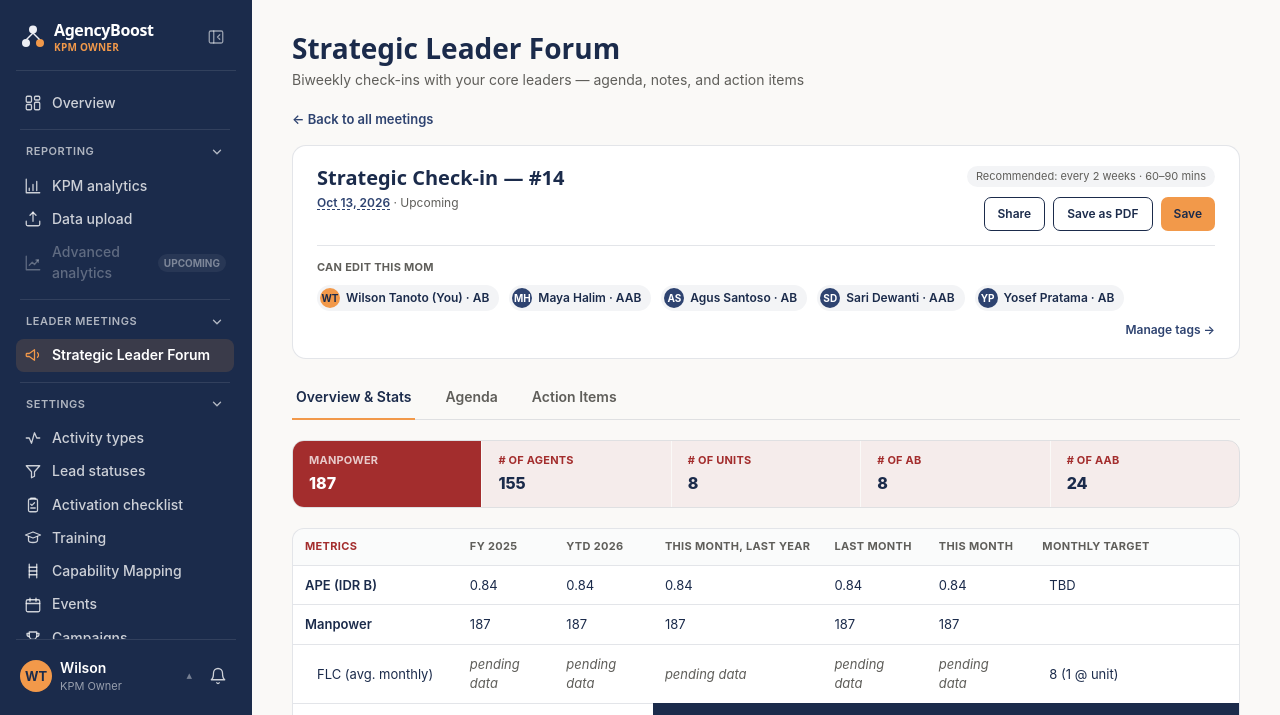
Test: /leader-meetings/[meetingId] — a meeting (P18.1-T2, P18.1-T3) › the meeting dialog (OD-145, I-254) › P18.1-T2 AC-7: a move against a head changed since it was read reads it again and says so
The image size is (1280, 715).
Click the button with aria-label "Change the date of".
click(354, 202)  # box [317,194,390,211]
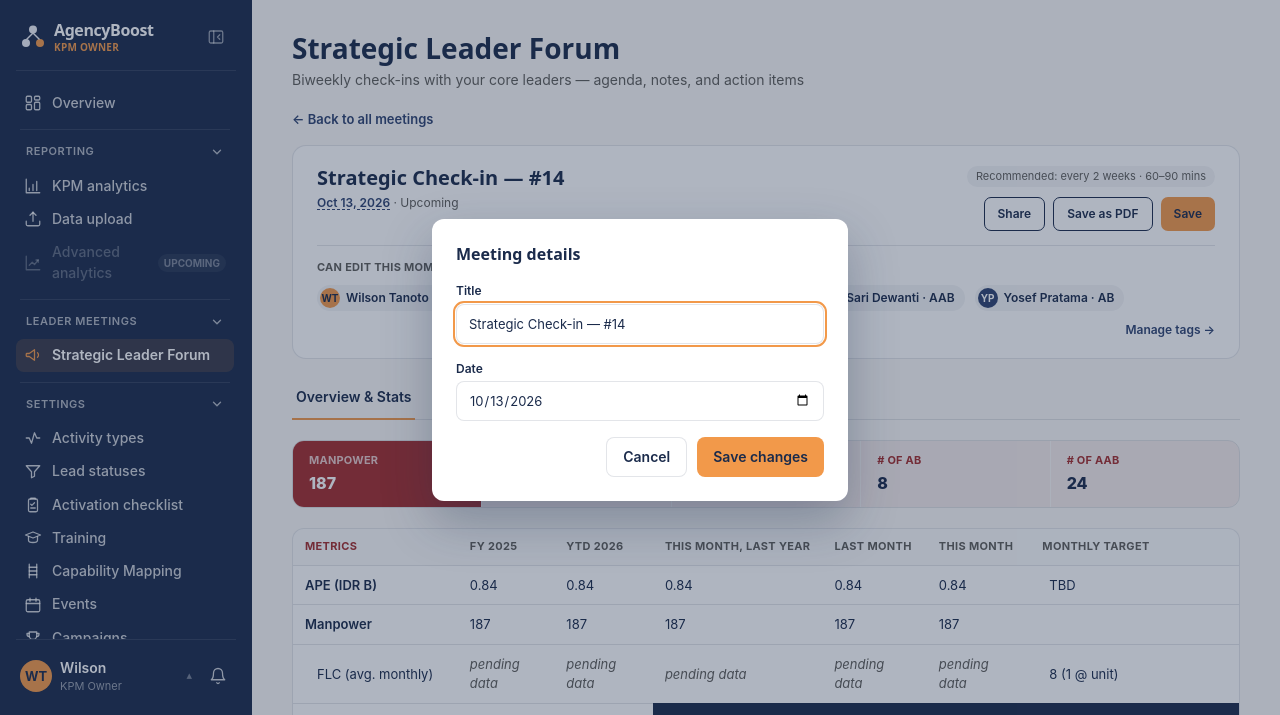
Type "!" into the field labelled "Title".
click(640, 324); type("!")  # box [456,304,824,344]
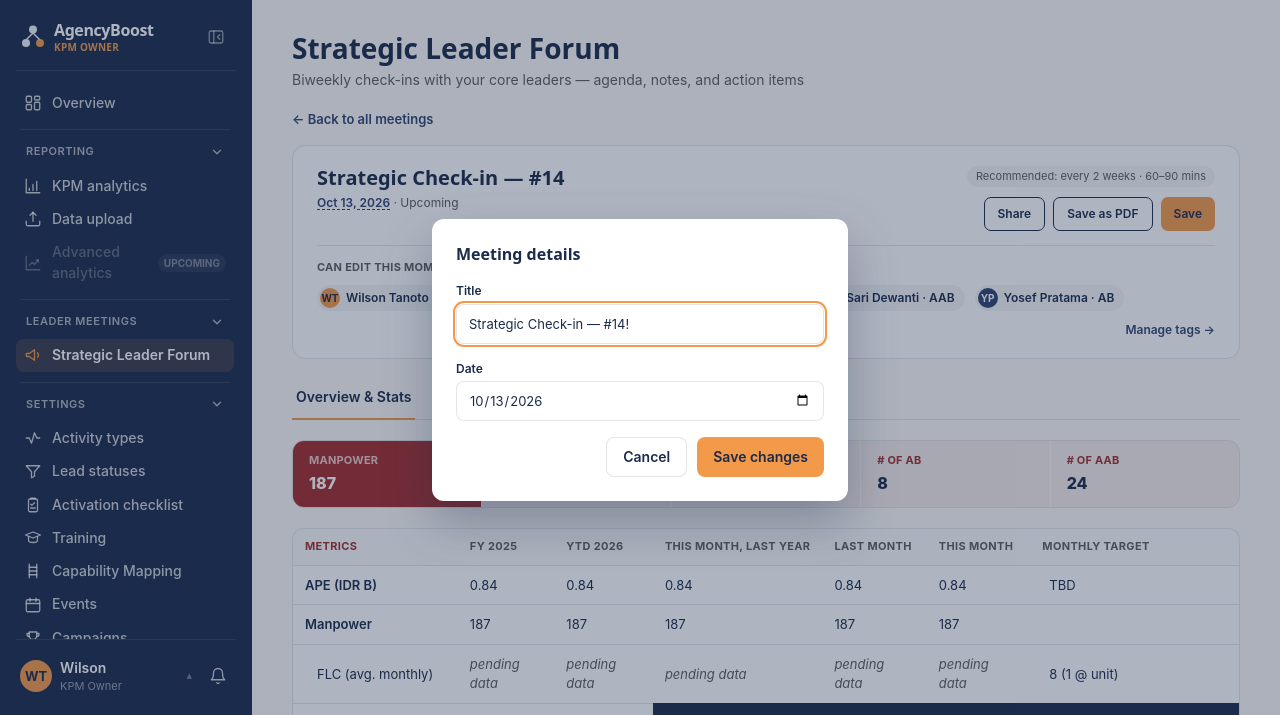
Click the button "Save changes".
click(761, 457)  # box [697,437,824,477]
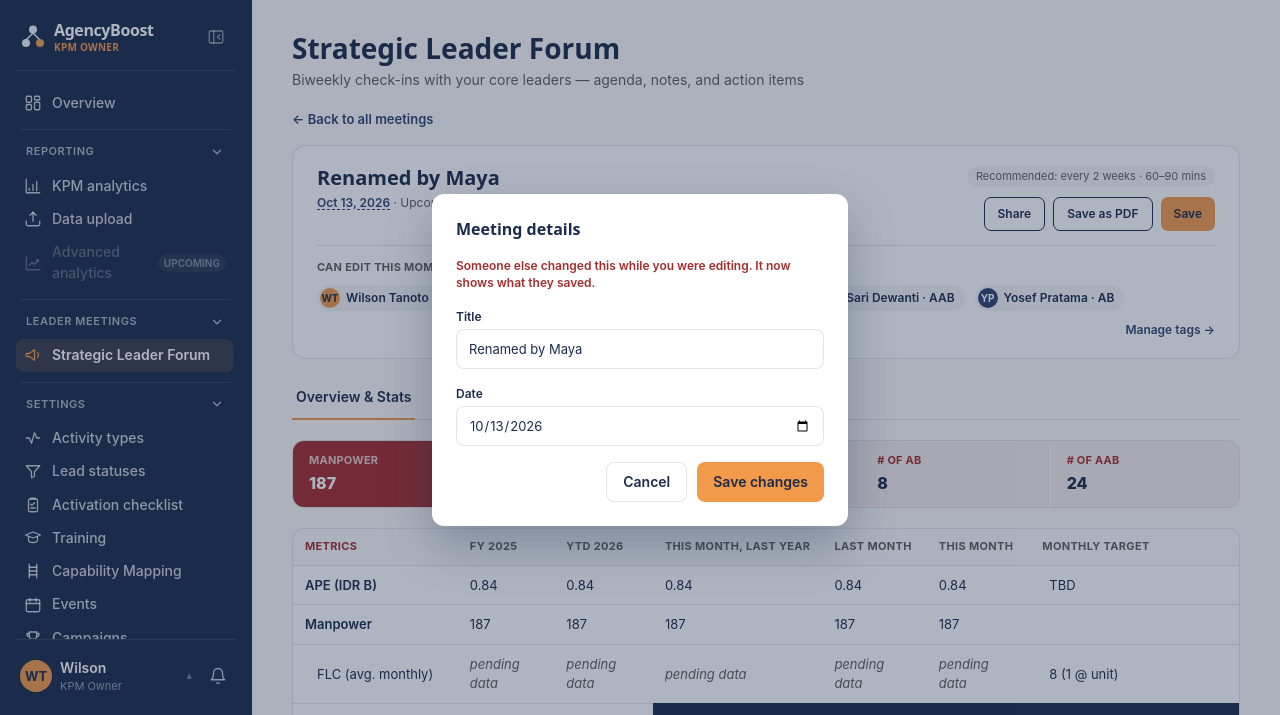
Check: the text "Someone else changed this while you were editing. It now shows what they saved." is shown, box [456,257,824,292]
Check: the field labelled "Title" holds "Renamed by Maya", box [456,329,824,369]
